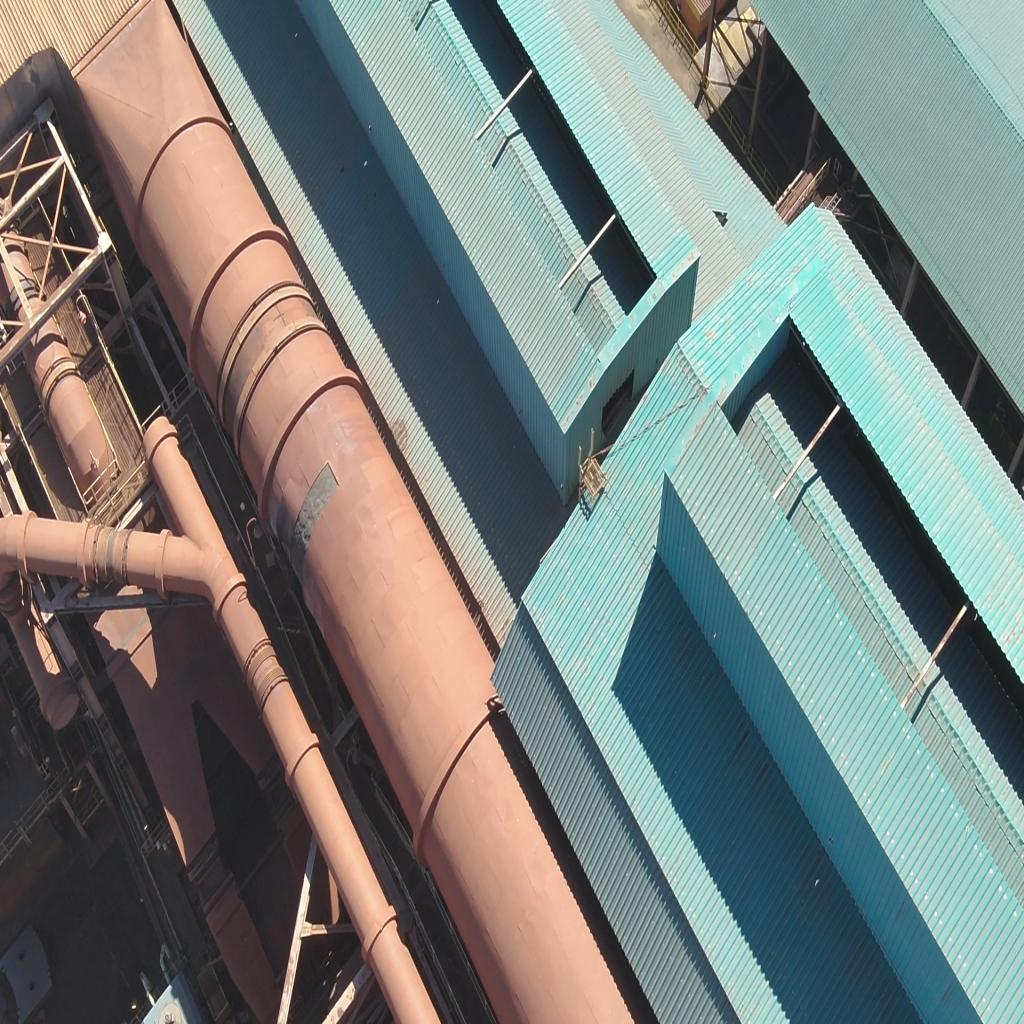Failures: (289, 460, 338, 572)
